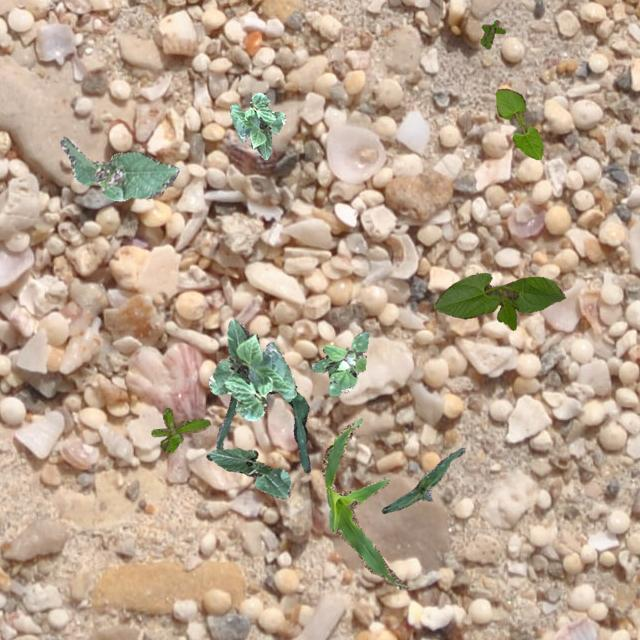crop: (320, 418, 408, 588), (208, 316, 296, 419), (216, 389, 310, 472), (432, 272, 564, 330), (60, 137, 178, 200), (381, 447, 464, 512), (206, 447, 290, 498), (228, 92, 284, 158), (494, 88, 542, 158)
weed: (311, 330, 367, 396), (150, 406, 208, 452), (480, 18, 504, 48)
